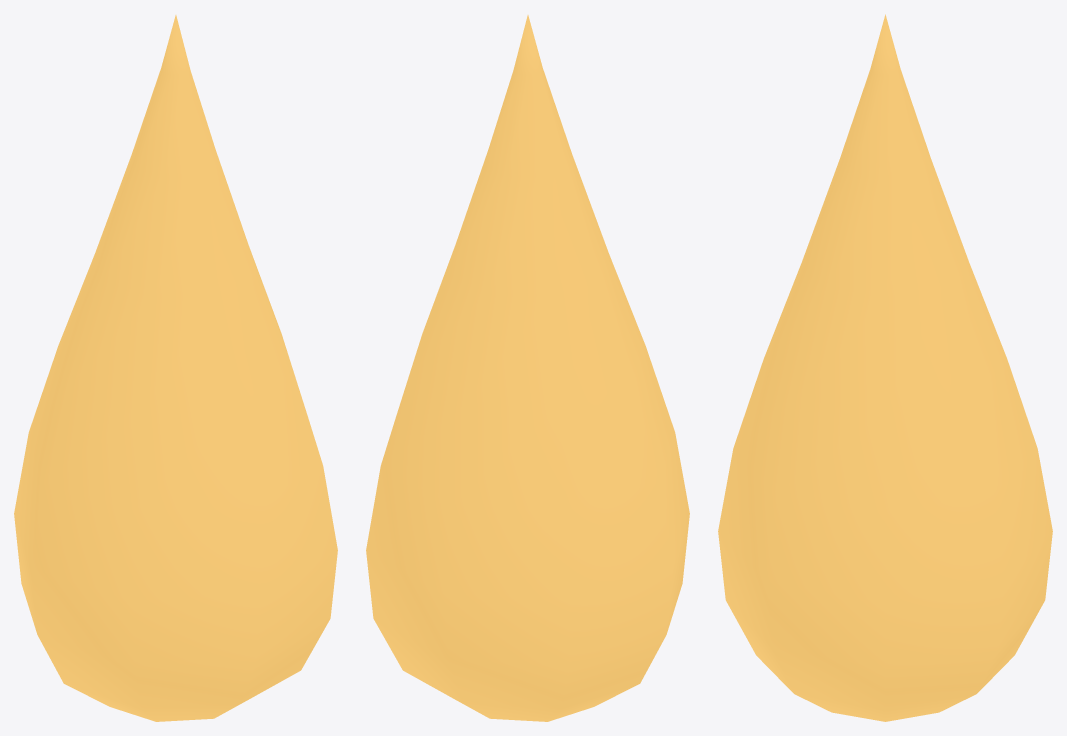
The model's file is flame.glb.
The picture shows the model from 3 angles, left to right: view 1: azimuth 30°, elevation 25°; view 2: azimuth 150°, elevation 25°; view 3: azimuth 270°, elevation 25°; orthographic projection.
Parts seen in each view (by area): view 1: flame; view 2: flame; view 3: flame.
Part boxes in pixels (x1,y1,x2,y2): flame: (14,15,337,721); flame: (366,15,689,721); flame: (718,14,1052,721).
Size of the model in its own units: 0.44 by 1 by 0.44.
